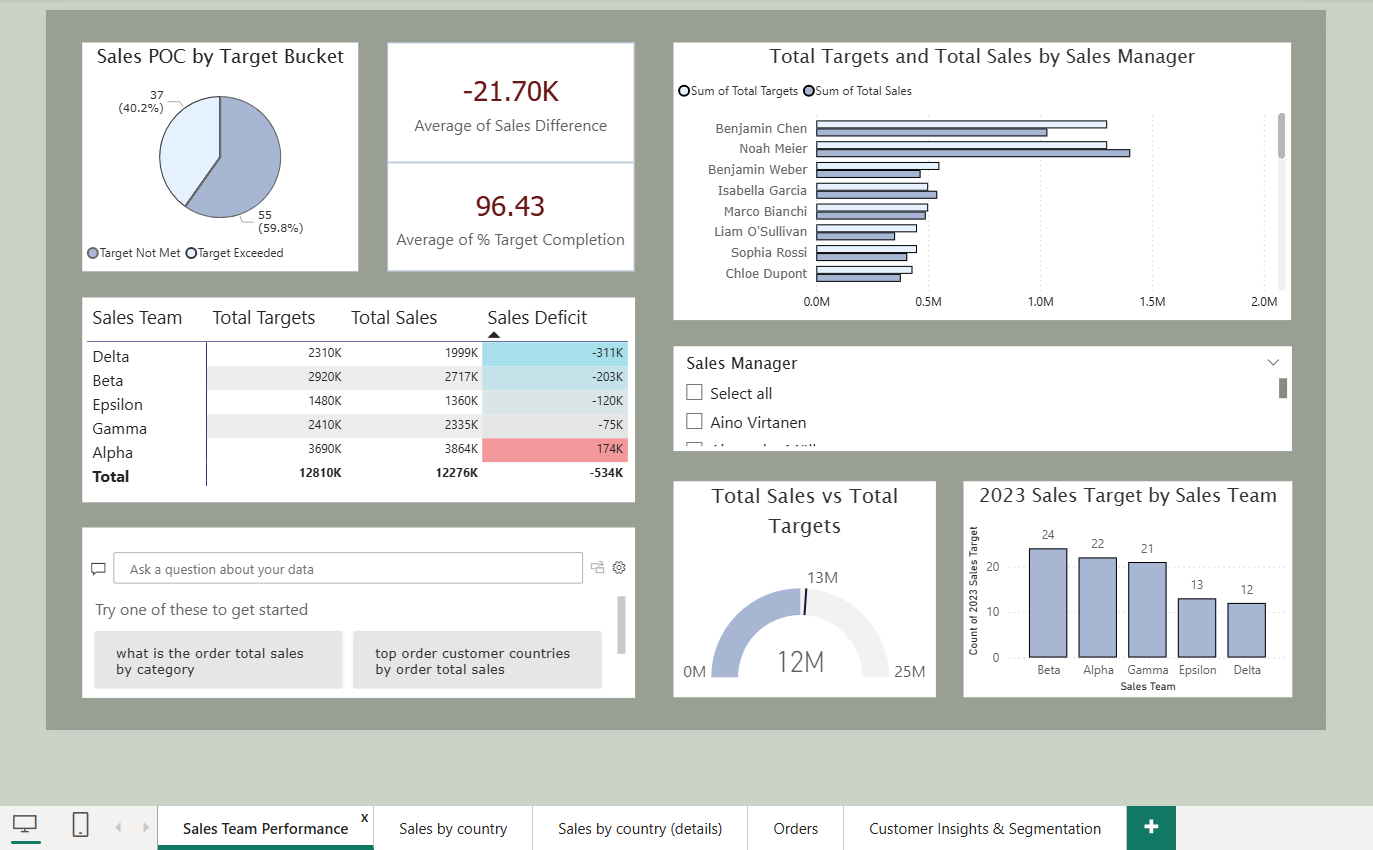

The page's visual inventory and layout, read from the dashboard file:
{"tool":"powerbi","page":{"name":"Sales Team Performance","canvas":[1280,720],"ordinal":0},"visuals":[{"type":"pieChart","title":"Sales POC by Target Bucket","fields":{"Category":["Sales Targets.Target Bucket"],"Y":["CountNonNull(Sales Targets.Sales POC)"]},"box":[36.2,23.8,308.8,237.5],"z":0},{"type":"card","fields":{"Values":["Avg(Sales Targets.Sales Difference)"]},"box":[627.5,335,267.5,108.8],"z":1000},{"type":"slicer","fields":{"Values":["Sales Targets.Sales Difference"]},"box":[672.5,517.5,210,85],"z":2000},{"type":"clusteredColumnChart","title":"2023 Sales Target by Sales Team","fields":{"Category":["Sales Targets.Sales Team"],"Y":["CountNonNull(Sales Targets.2023 Sales Target)"]},"box":[923.8,471.2,322.5,216.2],"z":3000},{"type":"clusteredBarChart","title":"Total Targets and Total Sales by Sales Manager","fields":{"Category":["Sales Manager Target Completion.Sales Manager"],"Y":["Sum(Sales Manager Target Completion.Total Targets)","Sum(Sales Manager Target Completion.Total Sales)"]},"box":[628.8,23.8,617.5,286.2],"z":4000},{"type":"gauge","title":"Total Sales vs Total Targets","fields":{"Y":["Sum(Sales Manager Target Completion.Total Sales)"],"TargetValue":["Sum(Sales Manager Target Completion.Total Targets)"]},"box":[627.5,471.2,267.5,216.2],"z":5000},{"type":"card","fields":{"Values":["Avg(Sales Manager Target Completion.% Target Completion)"]},"box":[923.8,335,321.2,108.8],"z":6000},{"type":"qnaVisual","box":[36.2,517.5,552.5,170],"z":7000},{"type":"pivotTable","fields":{"Values":["Sum(Sales Manager Target Completion.Total Targets)","Sum(Sales Manager Target Completion.Total Sales)","Sum(Sales Manager Target Completion.Sales Difference)"],"Rows":["Sales Manager Target Completion.Sales Team"]},"box":[36.2,287.5,552.5,205],"z":8000},{"type":"slicer","fields":{"Values":["Sales Manager Target Completion.Sales Manager"]},"box":[376.2,23.8,212.5,237.5],"z":9000}]}

Visuals, with their boxes on the page's 1280x720 design canvas (x1, y1, x2, y2). These are canvas units, not pixel positions in the 1373x850 screenshot, which may show the page scaled, cropped or inside an application window:
"Sales POC by Target Bucket" pieChart: (36,24,345,261)
card - Avg(Sales Targets.Sales Difference): (628,335,895,444)
slicer - Sales Targets.Sales Difference: (672,518,882,602)
"2023 Sales Target by Sales Team" clusteredColumnChart: (924,471,1246,687)
"Total Targets and Total Sales by Sales Manager" clusteredBarChart: (629,24,1246,310)
"Total Sales vs Total Targets" gauge: (628,471,895,687)
card - Avg(Sales Manager Target Completion.% Target Completion): (924,335,1245,444)
qnaVisual: (36,518,589,688)
pivotTable - Sum(Sales Manager Target Completion.Total Targets) x Sum(Sales Manager Target Completion.Total Sales): (36,288,589,492)
slicer - Sales Manager Target Completion.Sales Manager: (376,24,589,261)
